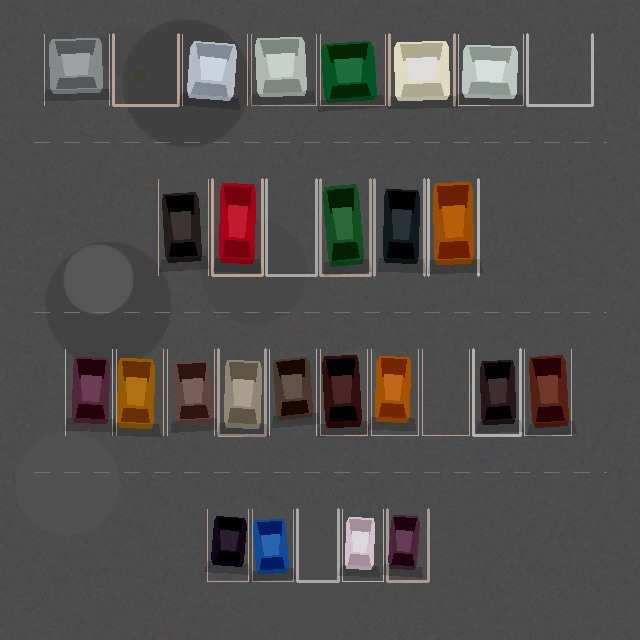space-empty: (266, 179, 316, 275), (113, 34, 178, 105), (527, 34, 592, 105), (422, 349, 469, 435), (297, 509, 338, 581)
space-occupied: (158, 179, 208, 275), (212, 179, 262, 275), (320, 179, 370, 275), (374, 179, 424, 275), (428, 179, 478, 275), (44, 34, 109, 105), (182, 34, 247, 105), (251, 34, 316, 105), (320, 34, 385, 105), (389, 34, 454, 105), (458, 34, 523, 105), (65, 349, 112, 435), (116, 349, 163, 435), (167, 349, 214, 435), (218, 349, 265, 435), (269, 349, 316, 435), (320, 349, 367, 435), (371, 349, 418, 435), (473, 349, 520, 435), (524, 349, 571, 435), (207, 509, 248, 581), (252, 509, 293, 581), (342, 509, 383, 581), (387, 509, 428, 581)
